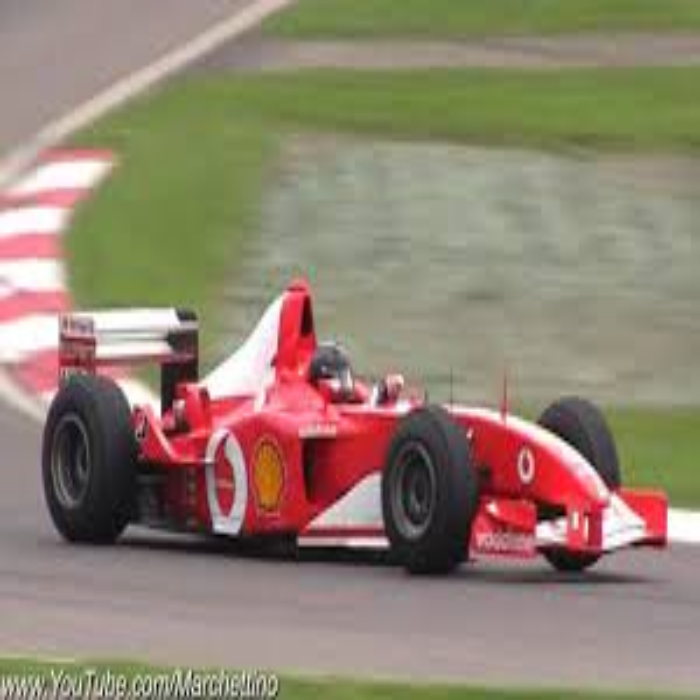f1_car: (30, 271, 689, 599)
